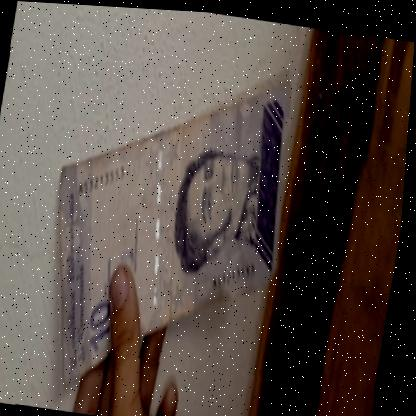ten-front-vef: (30, 51, 305, 411)
